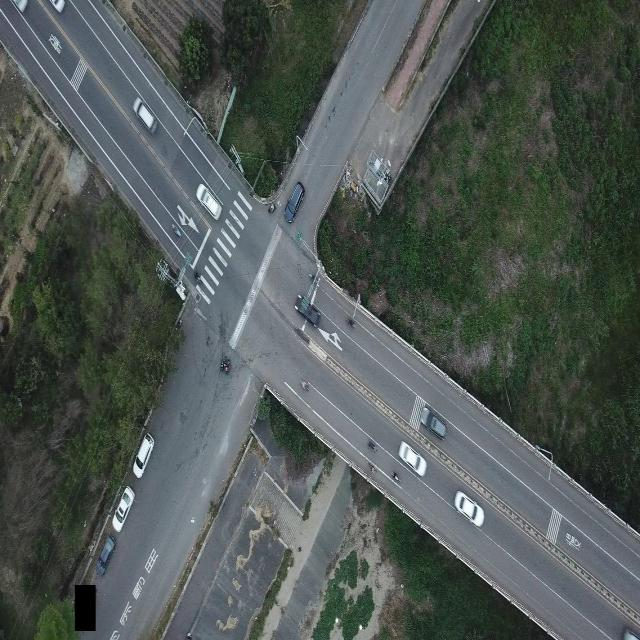bike: (221, 354, 230, 374)
car: (454, 488, 485, 528), (196, 183, 224, 222), (398, 441, 426, 478), (419, 405, 447, 441), (113, 484, 134, 531), (132, 433, 154, 477), (134, 96, 158, 135), (294, 295, 321, 327), (284, 183, 303, 222), (98, 535, 116, 574)
